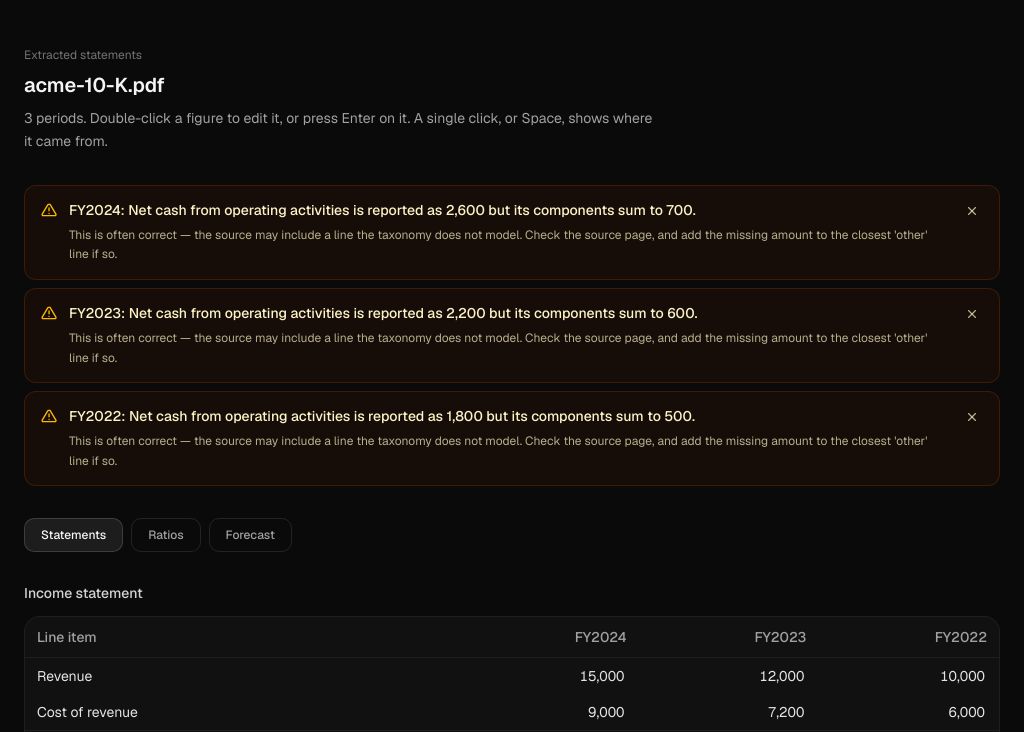
Test case: the generated reading › asks for one and shows what comes back
Click the tab "Ratios" at (166, 535), box [131,518,201,552]
(page scrolled)
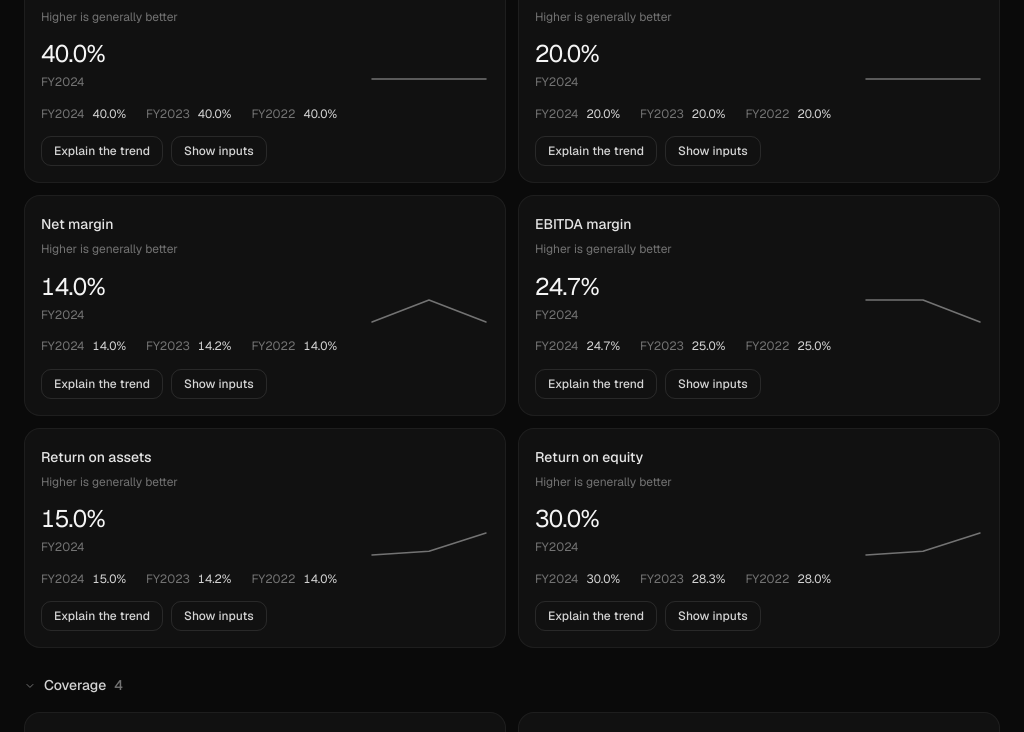
Click the 3rd button "Explain the trend" at (102, 384), box [41,369,163,399]
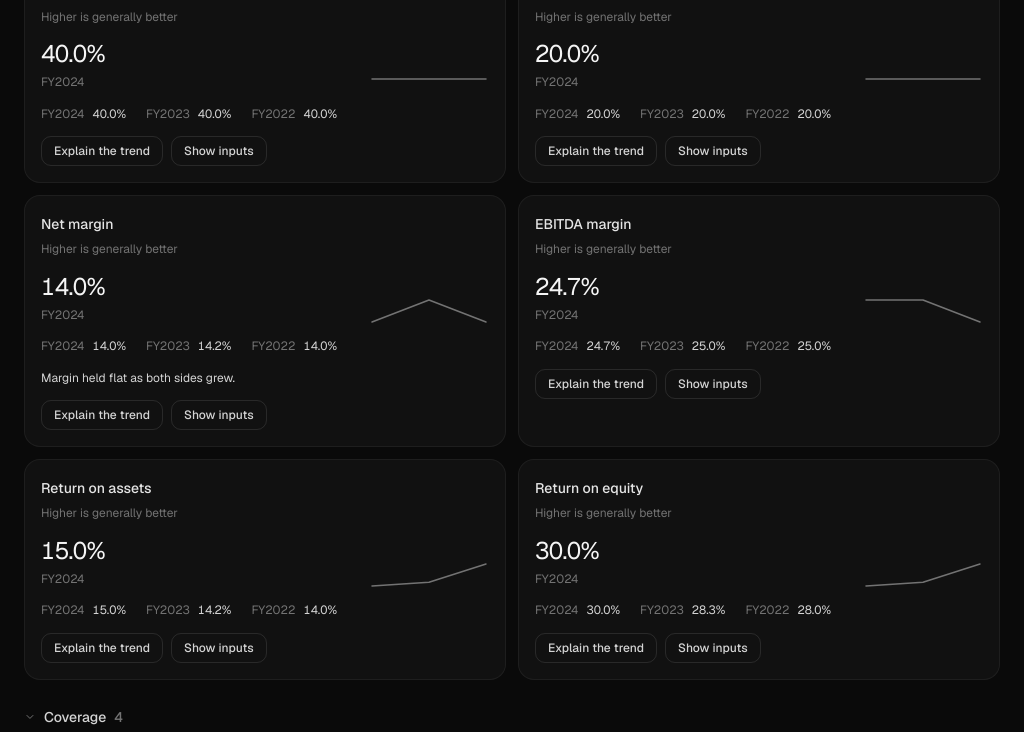
Check: the text "Margin held flat as both sides grew." is shown, box [41,370,235,386]
